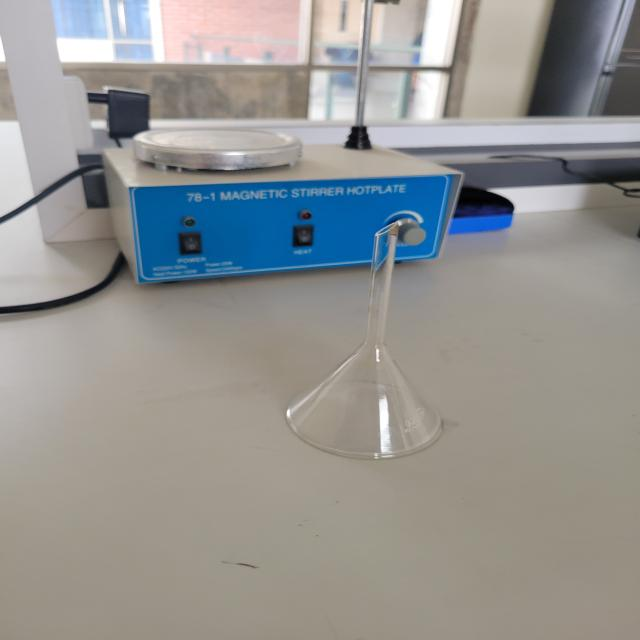Funnel: (269, 204, 475, 496)
